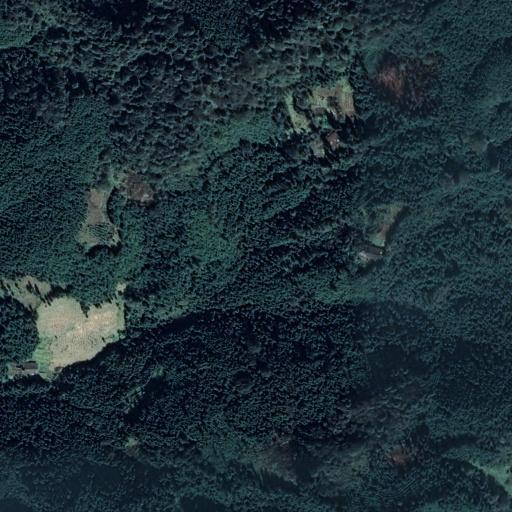landslide: (31, 298, 127, 375)
